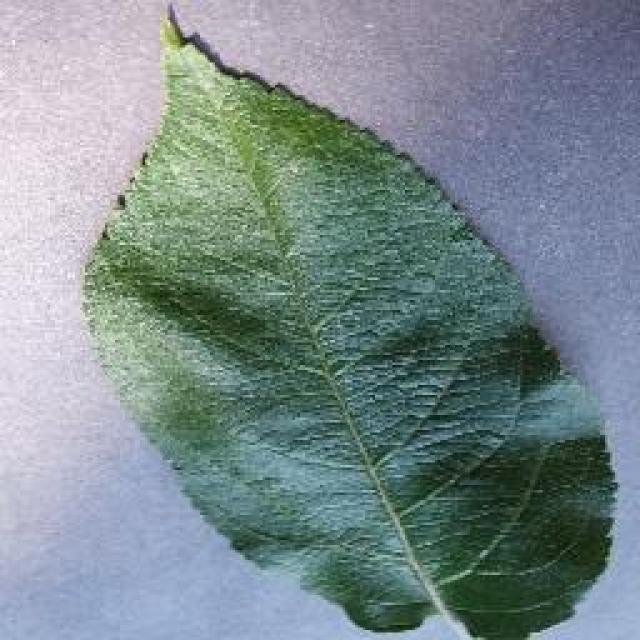apple healthy: (78, 0, 620, 638)
